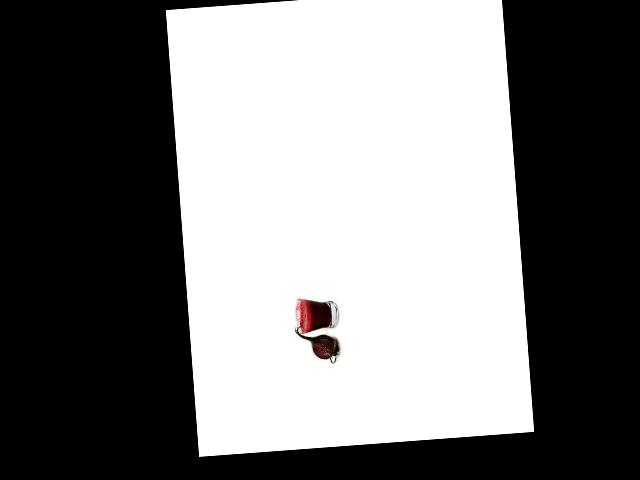beet: (294, 318, 340, 365)
